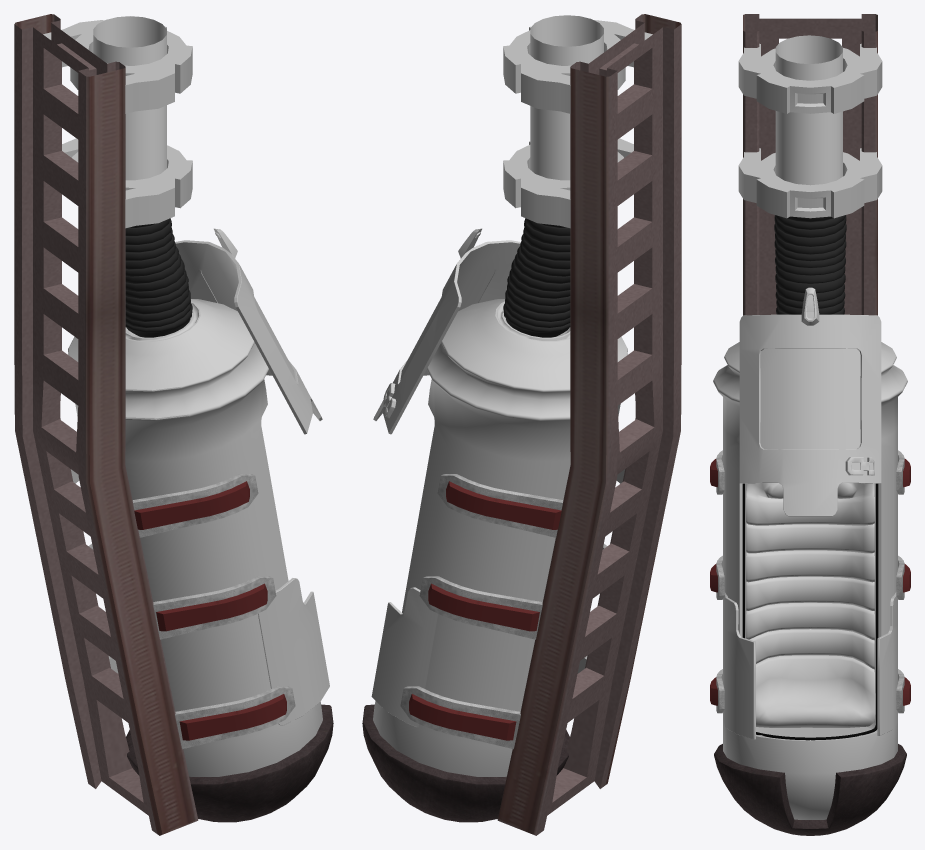
Rendered from Cryo_Pod_Open.FBX.
3 views of the same model, side by side, from view 1: azimuth 30°, elevation 25°; view 2: azimuth 150°, elevation 25°; view 3: azimuth 270°, elevation 25° (orthographic). The views are drawn at different scales.
Visible parts, largest first — view 1: pCube1, pod_main, pod_light_a, pod_bottom, pCylinder1, pod_door_b, Cylinder004, pPipe6, pPipe5, polySurface50, polySurface47, polySurface51 (+3 smaller); view 2: pCube1, pod_main, pod_light_a, pod_bottom, pCylinder1, Cylinder004, pod_door_c, pPipe6, pPipe5, polySurface56, polySurface53, polySurface57 (+3 smaller); view 3: pod_int, pod_light_a, pod_main, pCube1, pod_bottom, Cylinder004, pCylinder1, pPipe5, pPipe6, pod_door_b, pod_door_c, pod_seal.
Boxes of the visible parts, left/top/right/bottom form: pCube1: left=14, top=14, right=198, bottom=835; pod_main: left=68, top=299, right=322, bottom=776; pod_light_a: left=175, top=228, right=322, bottom=434; pod_bottom: left=126, top=704, right=333, bottom=822; pCylinder1: left=125, top=218, right=192, bottom=337; pod_door_b: left=258, top=578, right=329, bottom=725; Cylinder004: left=93, top=16, right=166, bottom=180; pPipe6: left=43, top=20, right=192, bottom=113; pPipe5: left=62, top=138, right=192, bottom=228; polySurface50: left=134, top=481, right=249, bottom=529; polySurface47: left=156, top=583, right=267, bottom=631; polySurface51: left=179, top=694, right=286, bottom=740; pCube1: left=497, top=14, right=681, bottom=835; pod_main: left=373, top=299, right=627, bottom=776; pod_light_a: left=373, top=228, right=520, bottom=434; pod_bottom: left=362, top=704, right=569, bottom=822; pCylinder1: left=503, top=218, right=570, bottom=337; Cylinder004: left=530, top=15, right=603, bottom=180; pod_door_c: left=371, top=587, right=437, bottom=727; pPipe6: left=503, top=20, right=652, bottom=113; pPipe5: left=503, top=138, right=633, bottom=228; polySurface56: left=446, top=481, right=561, bottom=529; polySurface53: left=428, top=583, right=539, bottom=631; polySurface57: left=409, top=694, right=516, bottom=740; pod_int: left=746, top=483, right=875, bottom=727; pod_light_a: left=739, top=287, right=881, bottom=516; pod_main: left=713, top=342, right=907, bottom=819; pCube1: left=743, top=14, right=877, bottom=315; pod_bottom: left=714, top=744, right=906, bottom=835; Cylinder004: left=775, top=35, right=842, bottom=185; pCylinder1: left=774, top=215, right=846, bottom=314; pPipe5: left=738, top=148, right=882, bottom=218; pPipe6: left=738, top=43, right=882, bottom=113; pod_door_b: left=723, top=592, right=755, bottom=739; pod_door_c: left=877, top=592, right=897, bottom=735; pod_seal: left=742, top=483, right=878, bottom=740.
Bounding box in the file's own units: 286 × 833 × 206.
